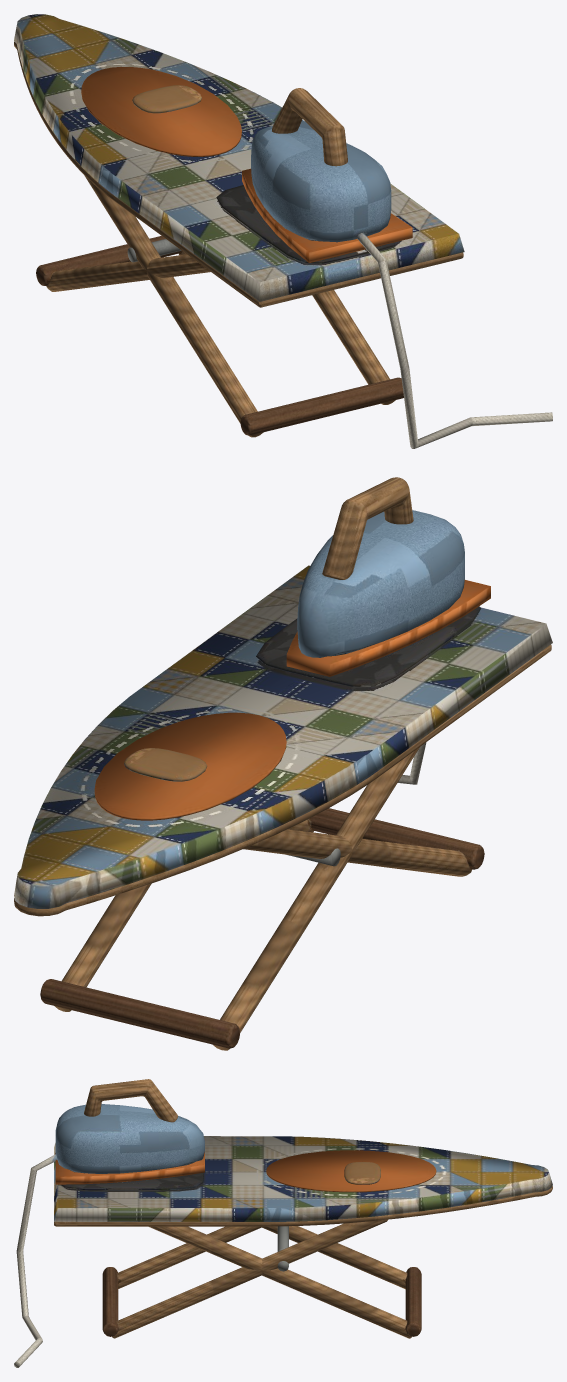
The model's file is giant_press_board_cool.glb.
The picture shows the model from 3 angles, top to bottom: view 1: azimuth 30°, elevation 25°; view 2: azimuth 150°, elevation 25°; view 3: azimuth 270°, elevation 25°; orthographic projection. The views are drawn at different scales.
Visible parts, largest first — view 1: prop_giant_press_board_cool_felt, prop_giant_press_board_cool_wood, prop_giant_press_board_cool_felt_heat; view 2: prop_giant_press_board_cool_felt, prop_giant_press_board_cool_wood, prop_giant_press_board_cool_felt_heat; view 3: prop_giant_press_board_cool_felt, prop_giant_press_board_cool_wood, prop_giant_press_board_cool_felt_heat.
Boxes of the visible parts, x1,y1,x2,y2 form: prop_giant_press_board_cool_felt: (14, 14, 552, 448); prop_giant_press_board_cool_wood: (14, 41, 463, 437); prop_giant_press_board_cool_felt_heat: (81, 67, 412, 262); prop_giant_press_board_cool_felt: (14, 510, 552, 908); prop_giant_press_board_cool_wood: (14, 477, 551, 1050); prop_giant_press_board_cool_felt_heat: (94, 580, 490, 820); prop_giant_press_board_cool_felt: (14, 1104, 552, 1367); prop_giant_press_board_cool_wood: (54, 1079, 552, 1338); prop_giant_press_board_cool_felt_heat: (55, 1150, 436, 1192).
Bounding box in the file's own units: 1.63 × 1.82 × 3.81.
Materials: 3 (3 with a texture image).
